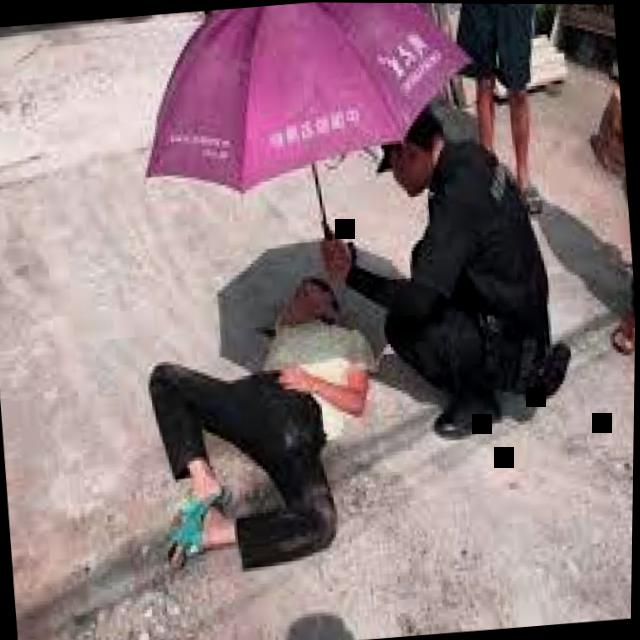Fall-Detected: (112, 224, 409, 581)
